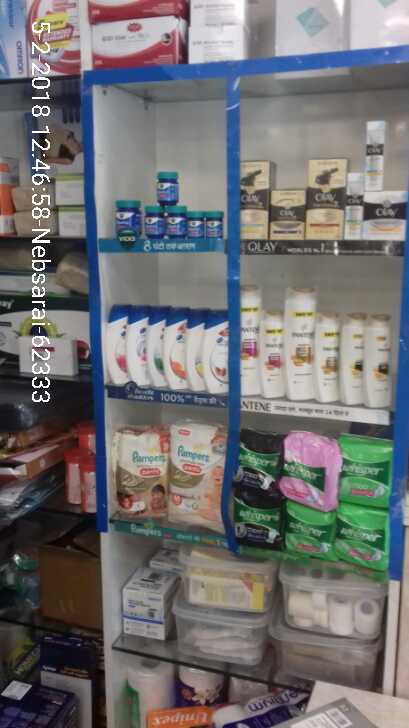vicks: (113, 164, 228, 241)
